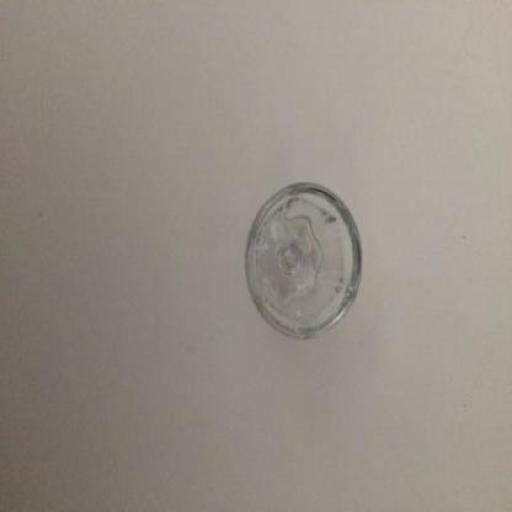glass: (247, 182, 362, 340)
